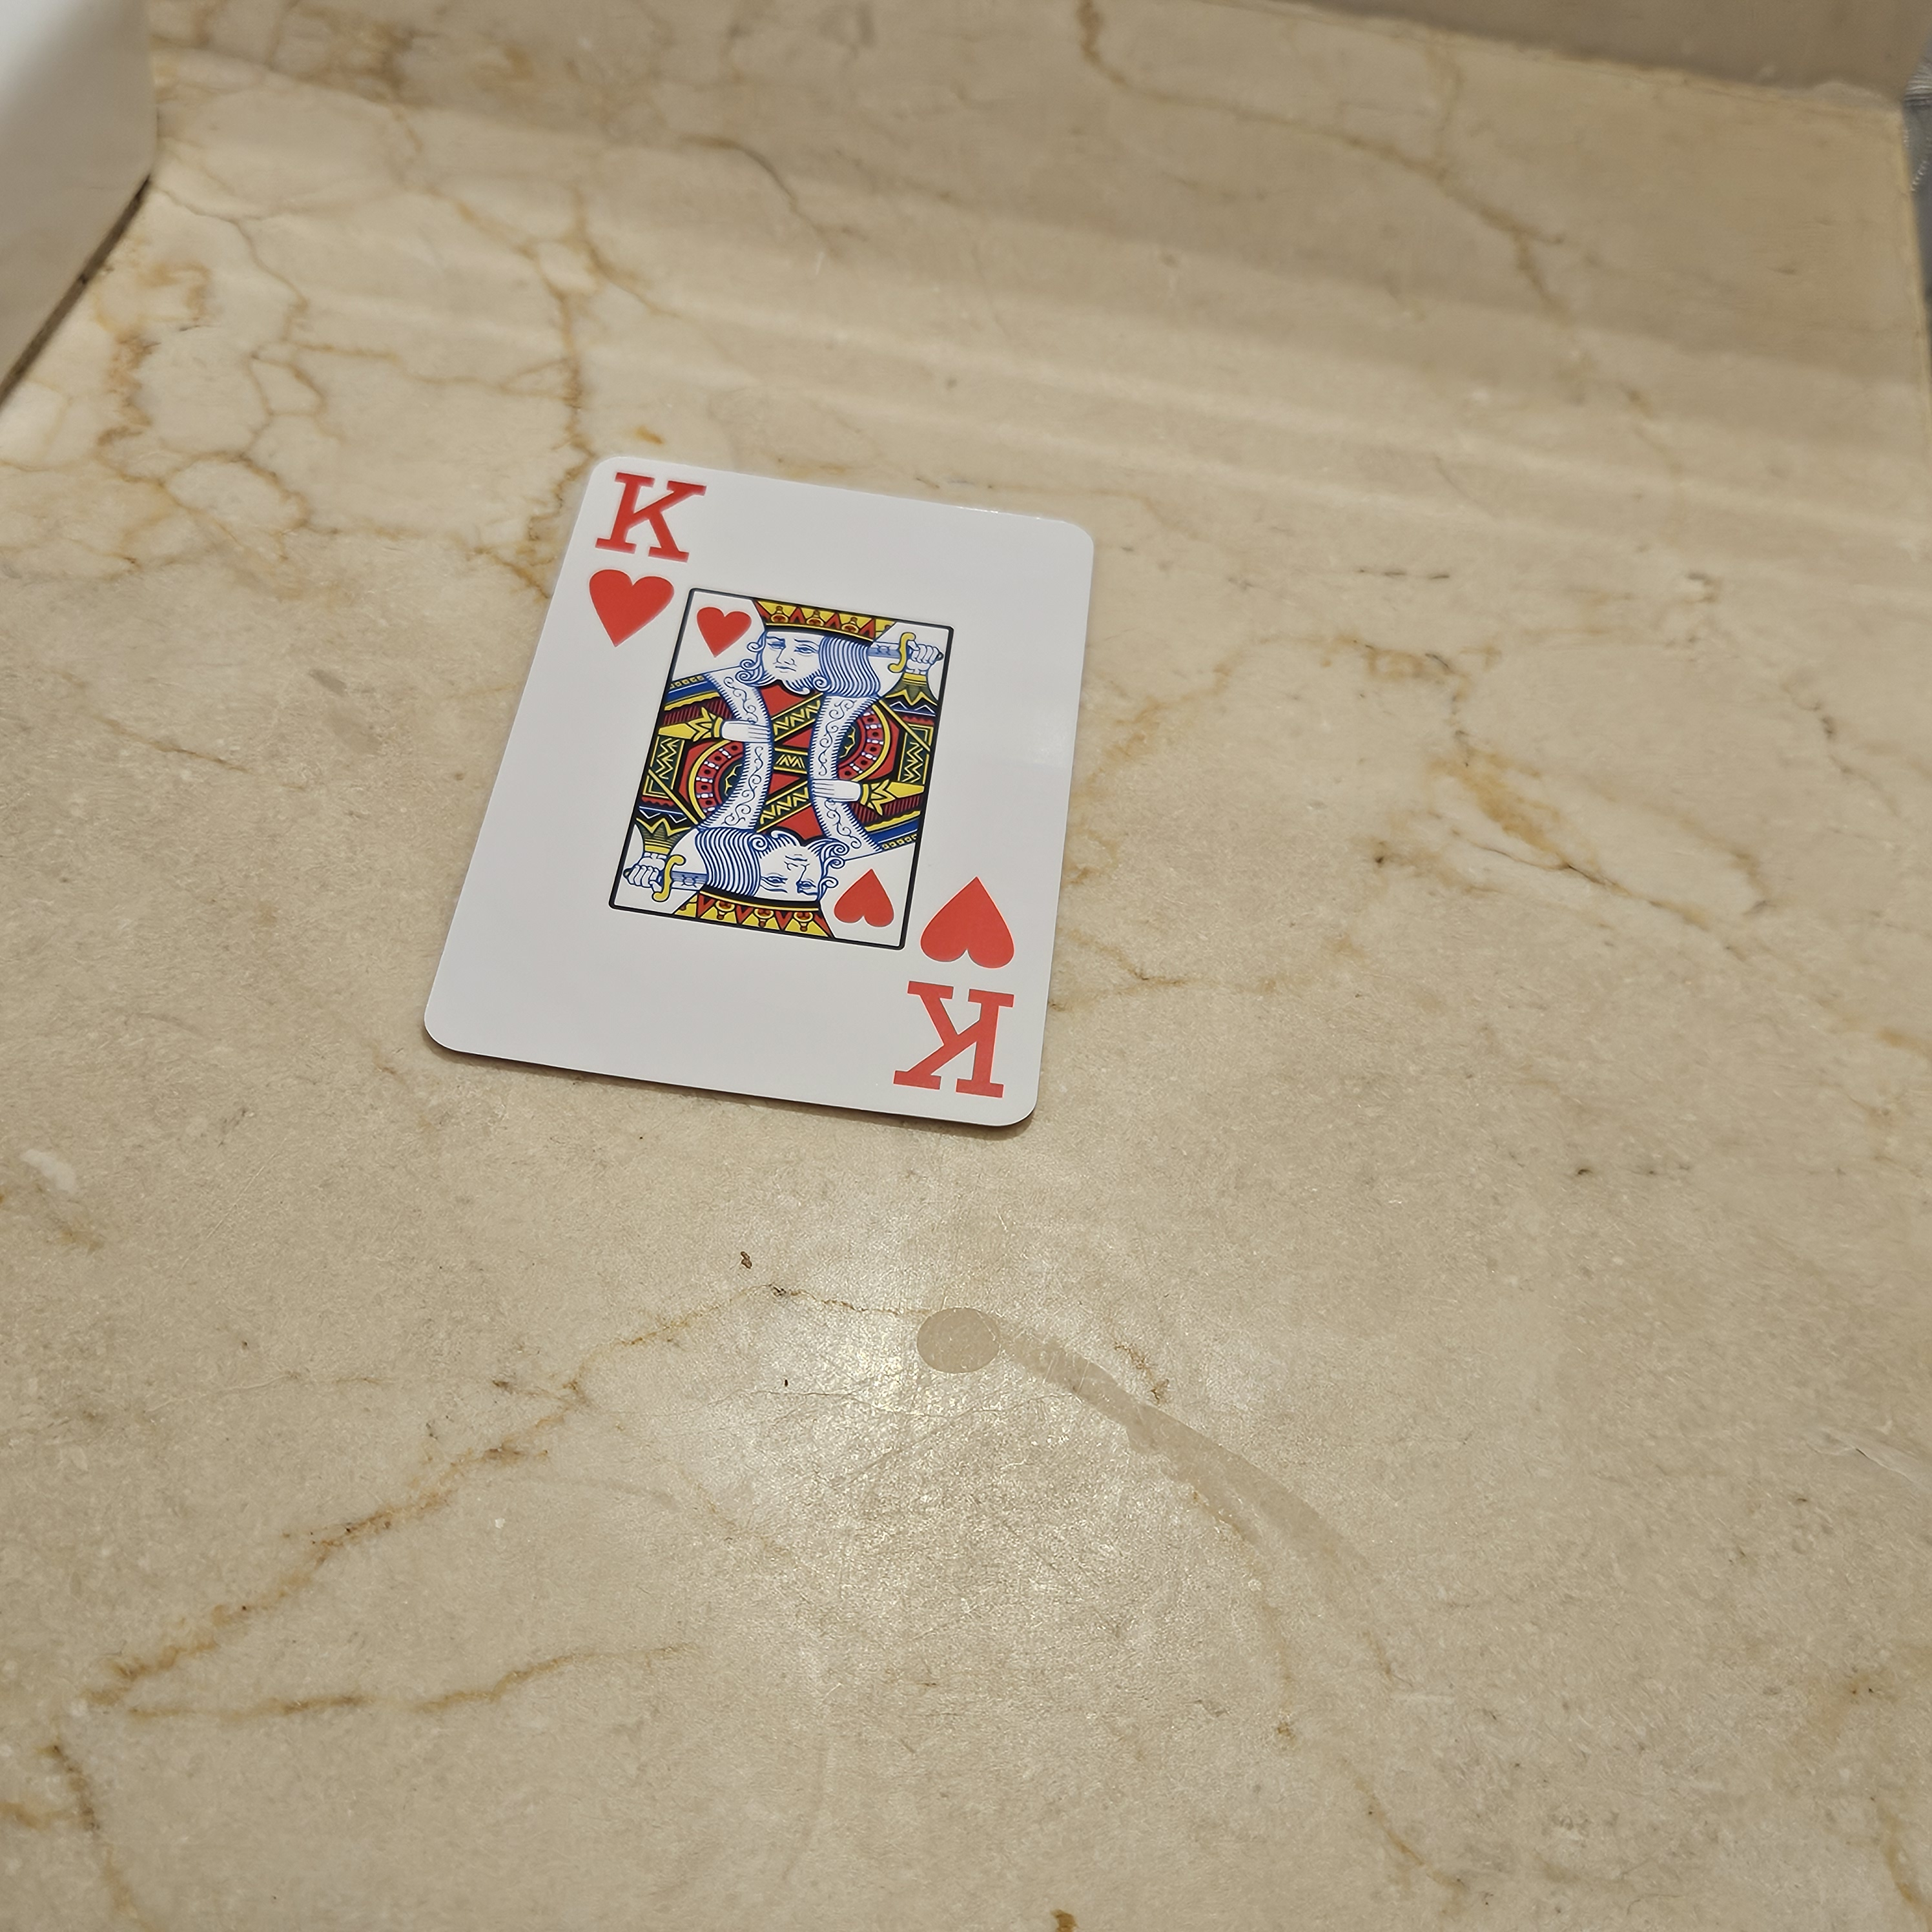KC: (886, 869, 1031, 1109), (568, 455, 709, 653)
